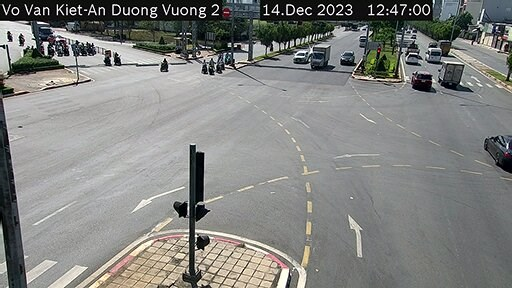car: (479, 134, 512, 167), (410, 69, 433, 90), (425, 45, 444, 69), (290, 48, 307, 67), (338, 52, 356, 68), (409, 51, 422, 68)
motorbike: (156, 54, 176, 76), (215, 54, 225, 79), (196, 56, 206, 77), (204, 57, 215, 74), (114, 51, 122, 66), (103, 51, 110, 67)
truck: (438, 58, 468, 89), (305, 41, 329, 75), (438, 37, 459, 60)
